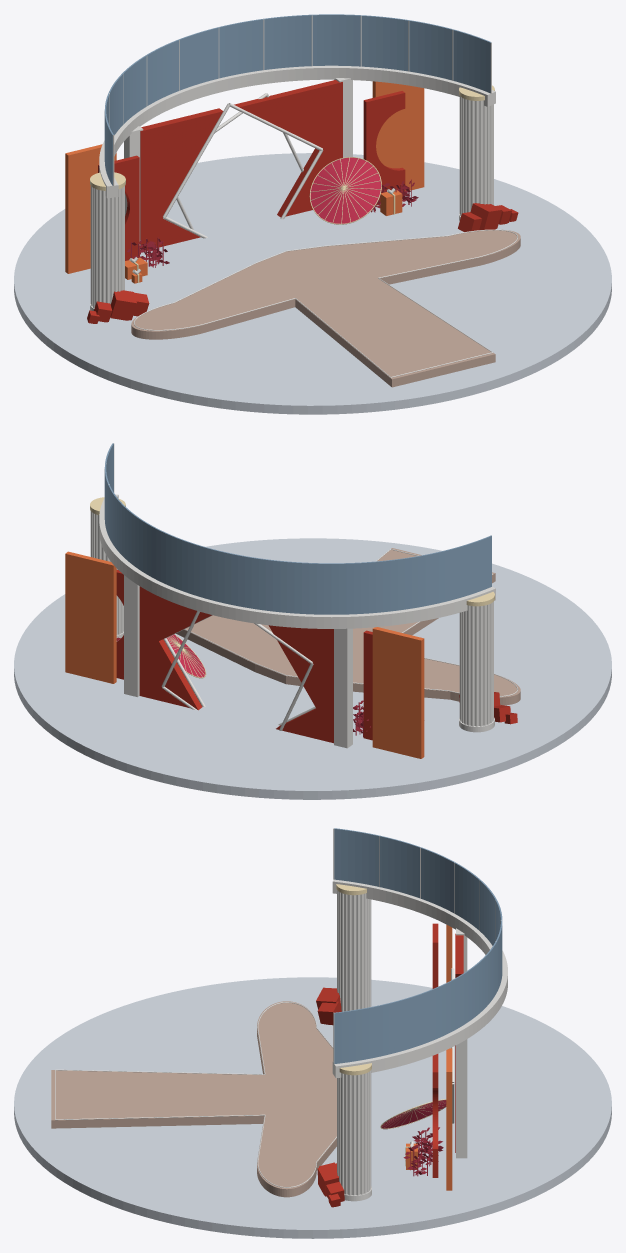
3 renders of one model, top to bottom at view 1: azimuth 30°, elevation 25°; view 2: azimuth 150°, elevation 25°; view 3: azimuth 270°, elevation 25°, orthographic.
Parts seen in each view (by area): view 1: GROUND_finite_work_extent, STAGE_shared_rounded_lobes, GLASS_finite_arc, WALL_red_with_opening, BAND_finite_arc, R_rear_ORANGE, UMBRELLA_paper, L_rear_ORANGE, R_front_NOTCHED, L_front_NOTCHED, L_COLUMN_core, R_COLUMN_core (+4 smaller); view 2: GROUND_finite_work_extent, GLASS_finite_arc, WALL_red_with_opening, STAGE_shared_rounded_lobes, L_rear_ORANGE, R_rear_ORANGE, BAND_finite_arc, WALL_white_reveal, WALL_white_reveal.001, L_COLUMN_core, L_front_NOTCHED, UMBRELLA_paper (+2 smaller); view 3: GROUND_finite_work_extent, STAGE_shared_rounded_lobes, GLASS_finite_arc, BAND_finite_arc, R_COLUMN_core, L_COLUMN_core, WALL_white_reveal.001, R_rear_ORANGE, R_front_NOTCHED, UMBRELLA_paper.
Boxes of the visible parts, left/top/right/bottom form: GROUND_finite_work_extent: left=14, top=153, right=611, bottom=414; STAGE_shared_rounded_lobes: left=131, top=229, right=520, bottom=387; GLASS_finite_arc: left=104, top=14, right=491, bottom=185; WALL_red_with_opening: left=140, top=80, right=342, bottom=250; BAND_finite_arc: left=99, top=65, right=495, bottom=198; R_rear_ORANGE: left=372, top=81, right=424, bottom=190; UMBRELLA_paper: left=310, top=157, right=380, bottom=223; L_rear_ORANGE: left=65, top=144, right=116, bottom=273; R_front_NOTCHED: left=363, top=91, right=405, bottom=205; L_front_NOTCHED: left=98, top=155, right=139, bottom=260; L_COLUMN_core: left=94, top=189, right=120, bottom=307; R_COLUMN_core: left=464, top=99, right=489, bottom=212; GROUND_finite_work_extent: left=14, top=538, right=611, bottom=799; GLASS_finite_arc: left=104, top=443, right=491, bottom=614; WALL_red_with_opening: left=139, top=586, right=333, bottom=743; STAGE_shared_rounded_lobes: left=176, top=548, right=520, bottom=705; L_rear_ORANGE: left=372, top=627, right=424, bottom=758; R_rear_ORANGE: left=65, top=551, right=116, bottom=683; BAND_finite_arc: left=99, top=494, right=495, bottom=628; WALL_white_reveal: left=334, top=628, right=352, bottom=748; WALL_white_reveal.001: left=124, top=575, right=139, bottom=697; L_COLUMN_core: left=464, top=604, right=489, bottom=725; L_front_NOTCHED: left=363, top=630, right=372, bottom=740; UMBRELLA_paper: left=166, top=634, right=205, bottom=677; GROUND_finite_work_extent: left=14, top=977, right=611, bottom=1238; STAGE_shared_rounded_lobes: left=51, top=1001, right=336, bottom=1197; GLASS_finite_arc: left=334, top=828, right=502, bottom=1063; BAND_finite_arc: left=332, top=879, right=507, bottom=1078; R_COLUMN_core: left=341, top=1073, right=367, bottom=1194; L_COLUMN_core: left=341, top=893, right=367, bottom=1011; WALL_white_reveal.001: left=456, top=1039, right=467, bottom=1158; R_rear_ORANGE: left=446, top=1048, right=452, bottom=1190; R_front_NOTCHED: left=432, top=1054, right=438, bottom=1177; UMBRELLA_paper: left=381, top=1100, right=446, bottom=1128.
Size of what is drawn, in the model's own units: 16 by 6.55 by 16.
